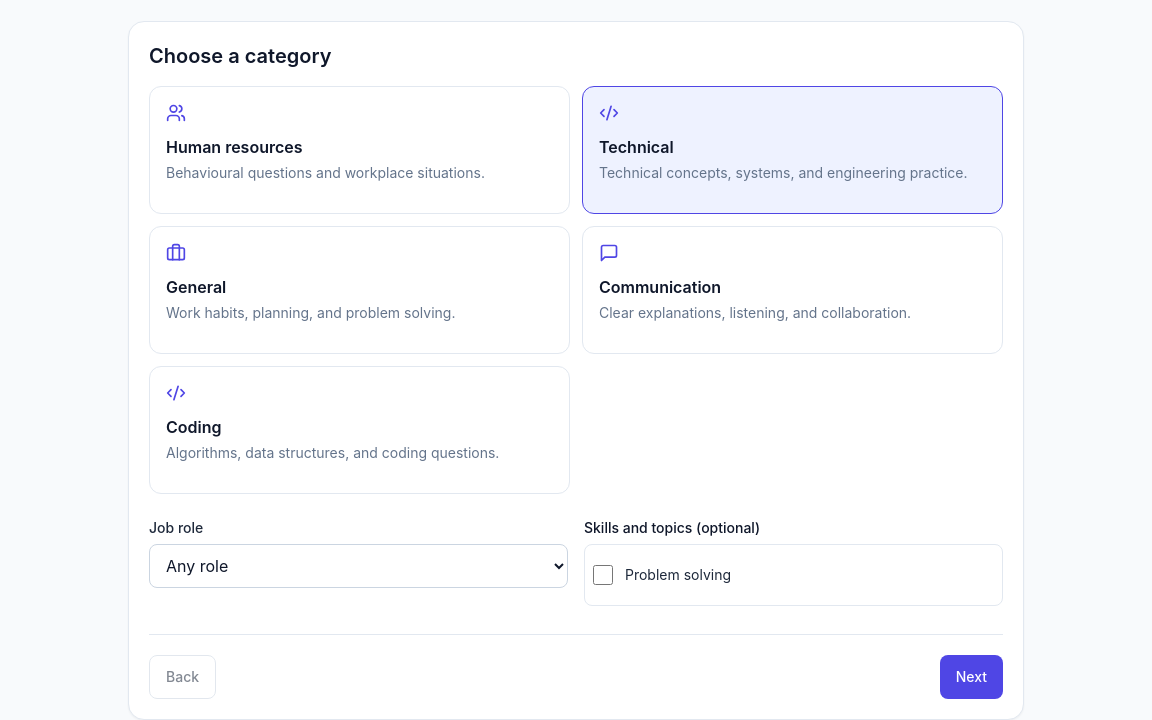
Scenario: InterviewSetupPage › prefills defaults from saved settings when no route, draft, or profile preferences exist
This screenshot has width=1152, height=720.
(page scrolled)
Step 1. Click the button "Next" → (971, 677), box [940, 655, 1003, 699]
(page scrolled)
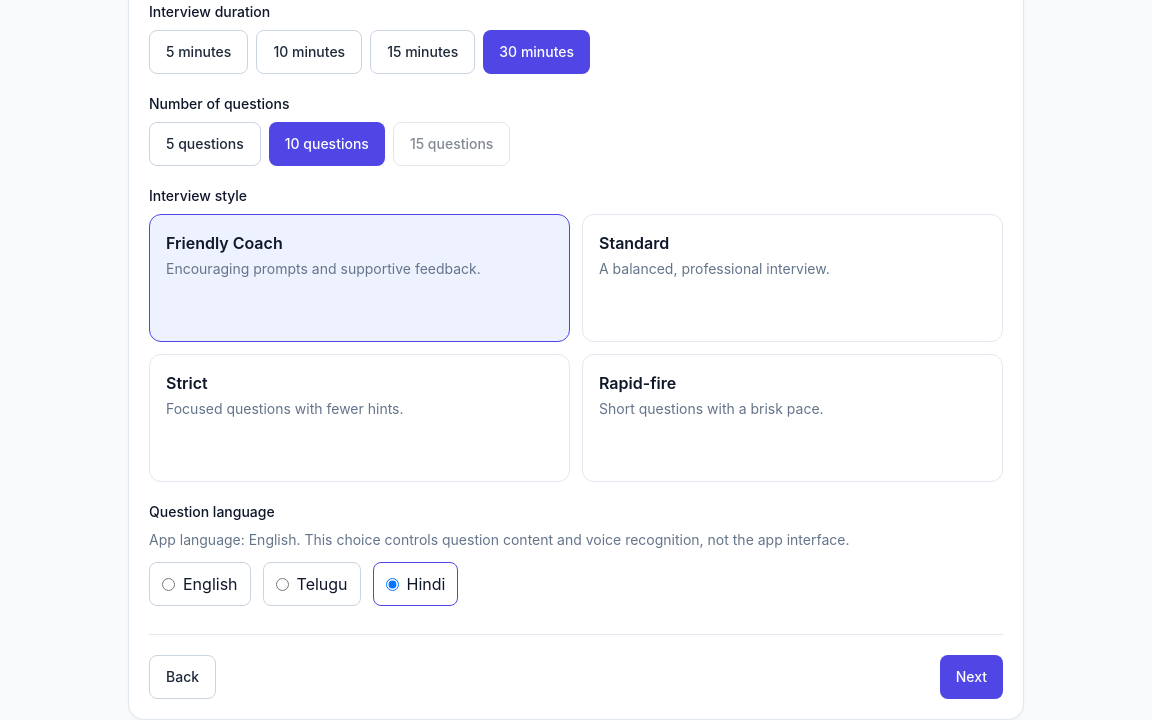
Expected: the radio button labelled "Hindi" is checked, [386, 578, 399, 590]
